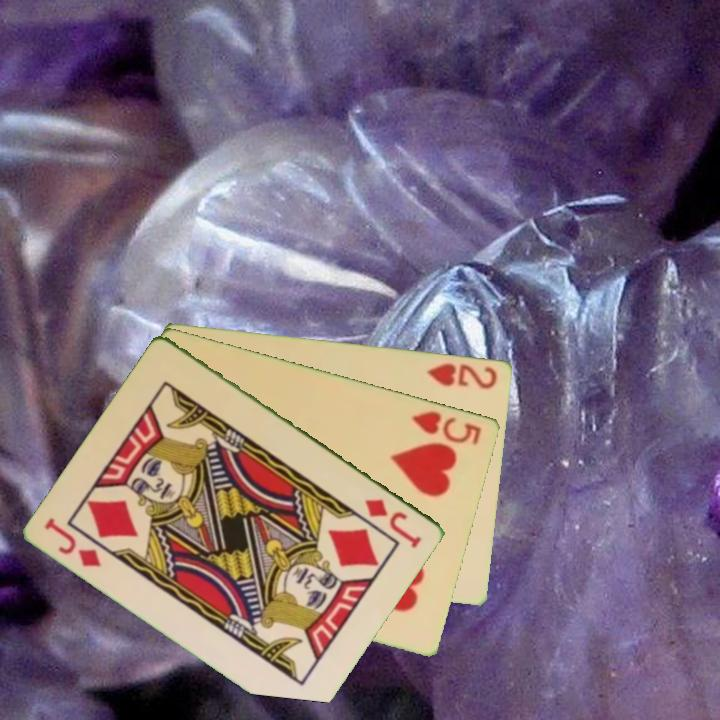2h: (423, 359, 501, 392)
5h: (408, 406, 485, 448)
Jd: (361, 494, 425, 552), (41, 514, 105, 570)
